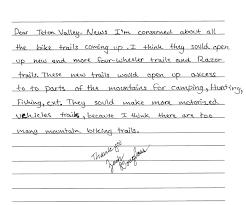text: (15, 82, 244, 96), (15, 42, 231, 54), (16, 97, 220, 109), (14, 55, 225, 66), (13, 26, 217, 37), (14, 110, 214, 121), (17, 70, 217, 80), (104, 144, 151, 174), (16, 126, 140, 136), (89, 139, 122, 162)
